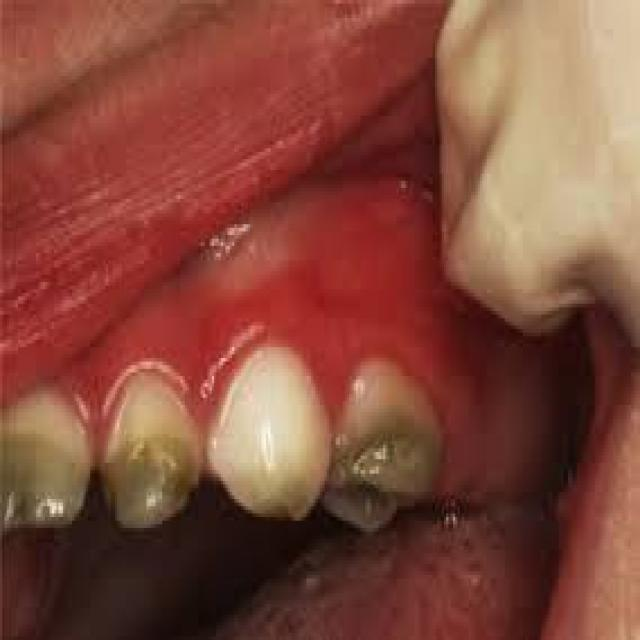Tooth Discoloration: (0, 427, 203, 535), (316, 398, 452, 520)
